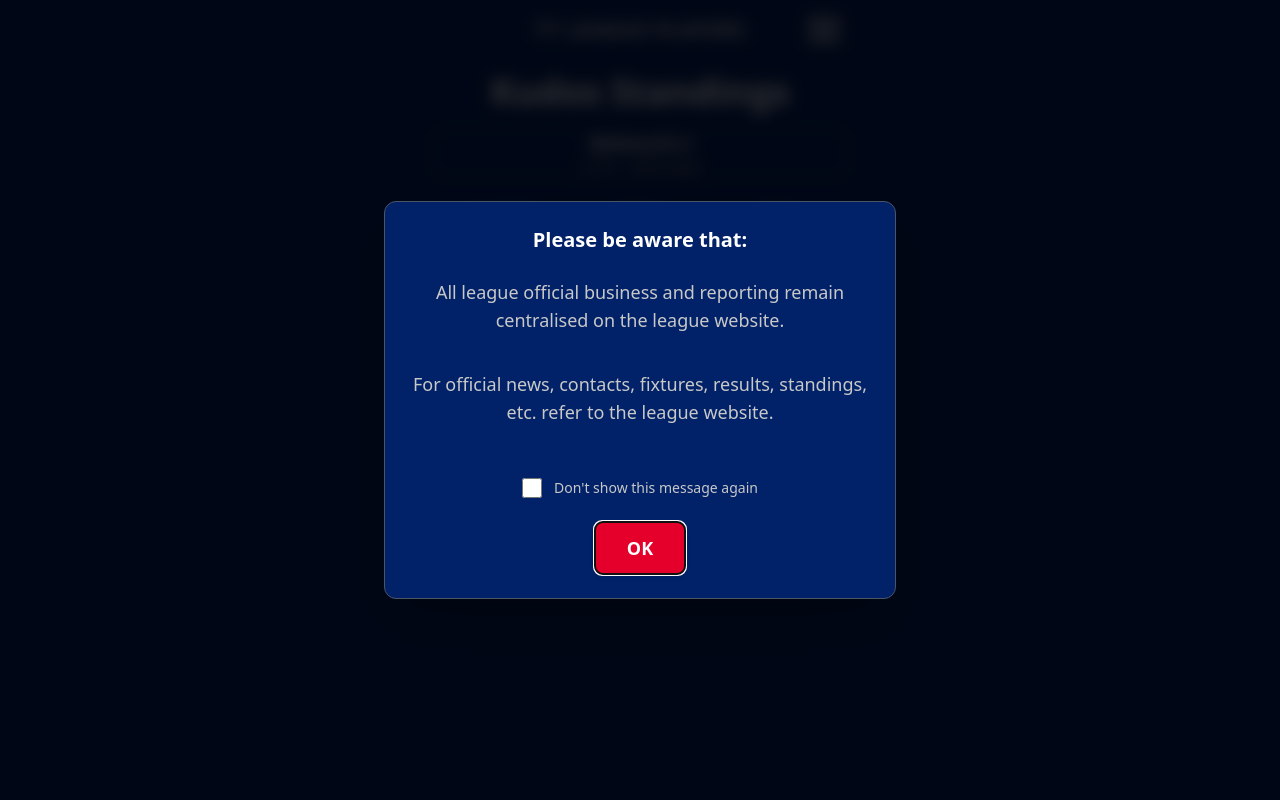
it: KudosStandings info modal › suppression combinations › disputes suppressed: the website modal opens and its OK closes everything
The width and height of the screenshot is (1280, 800).
Expected: the dialog with test id "standings-website-info-modal" is shown, [384,201,896,599]
Click the button with test id "standings-website-info-modal-ok". click: (640, 548)
box: [595,522,685,574]
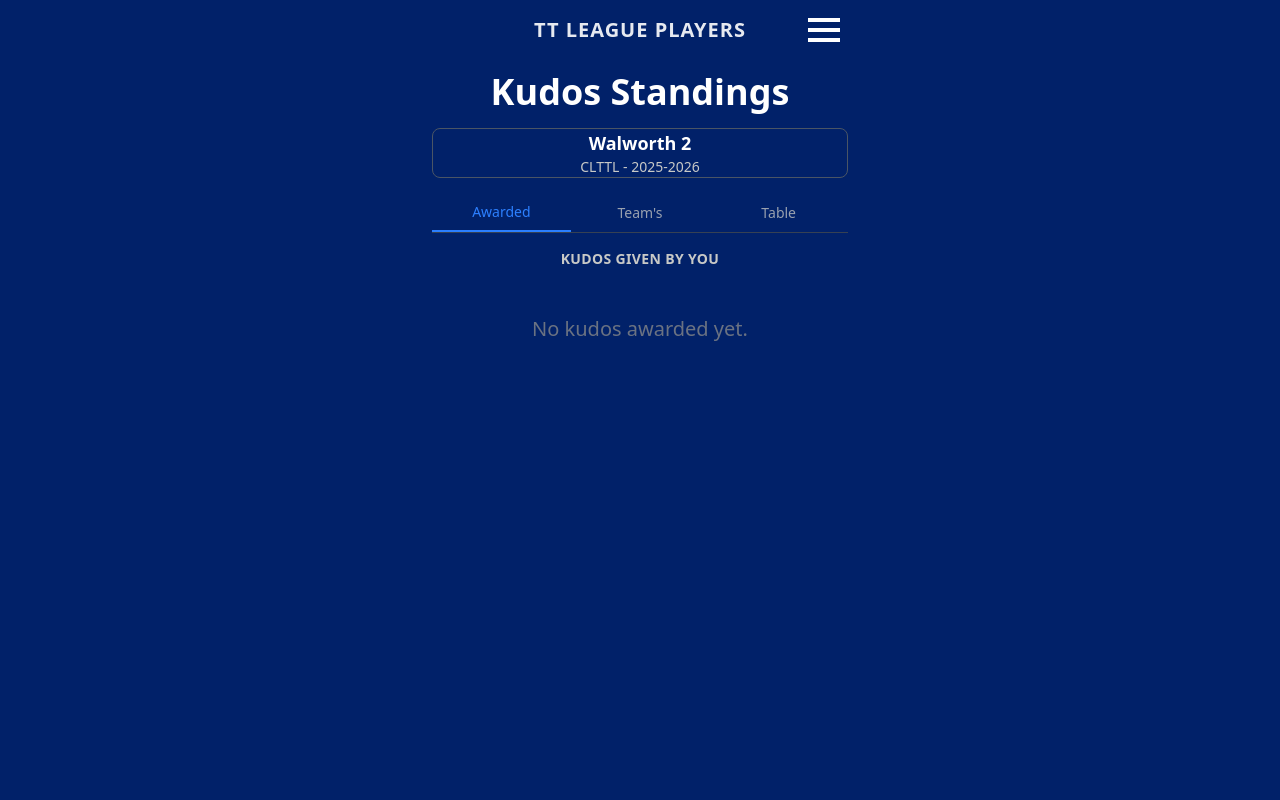
Expected: the dialog with test id "standings-website-info-modal" is gone
